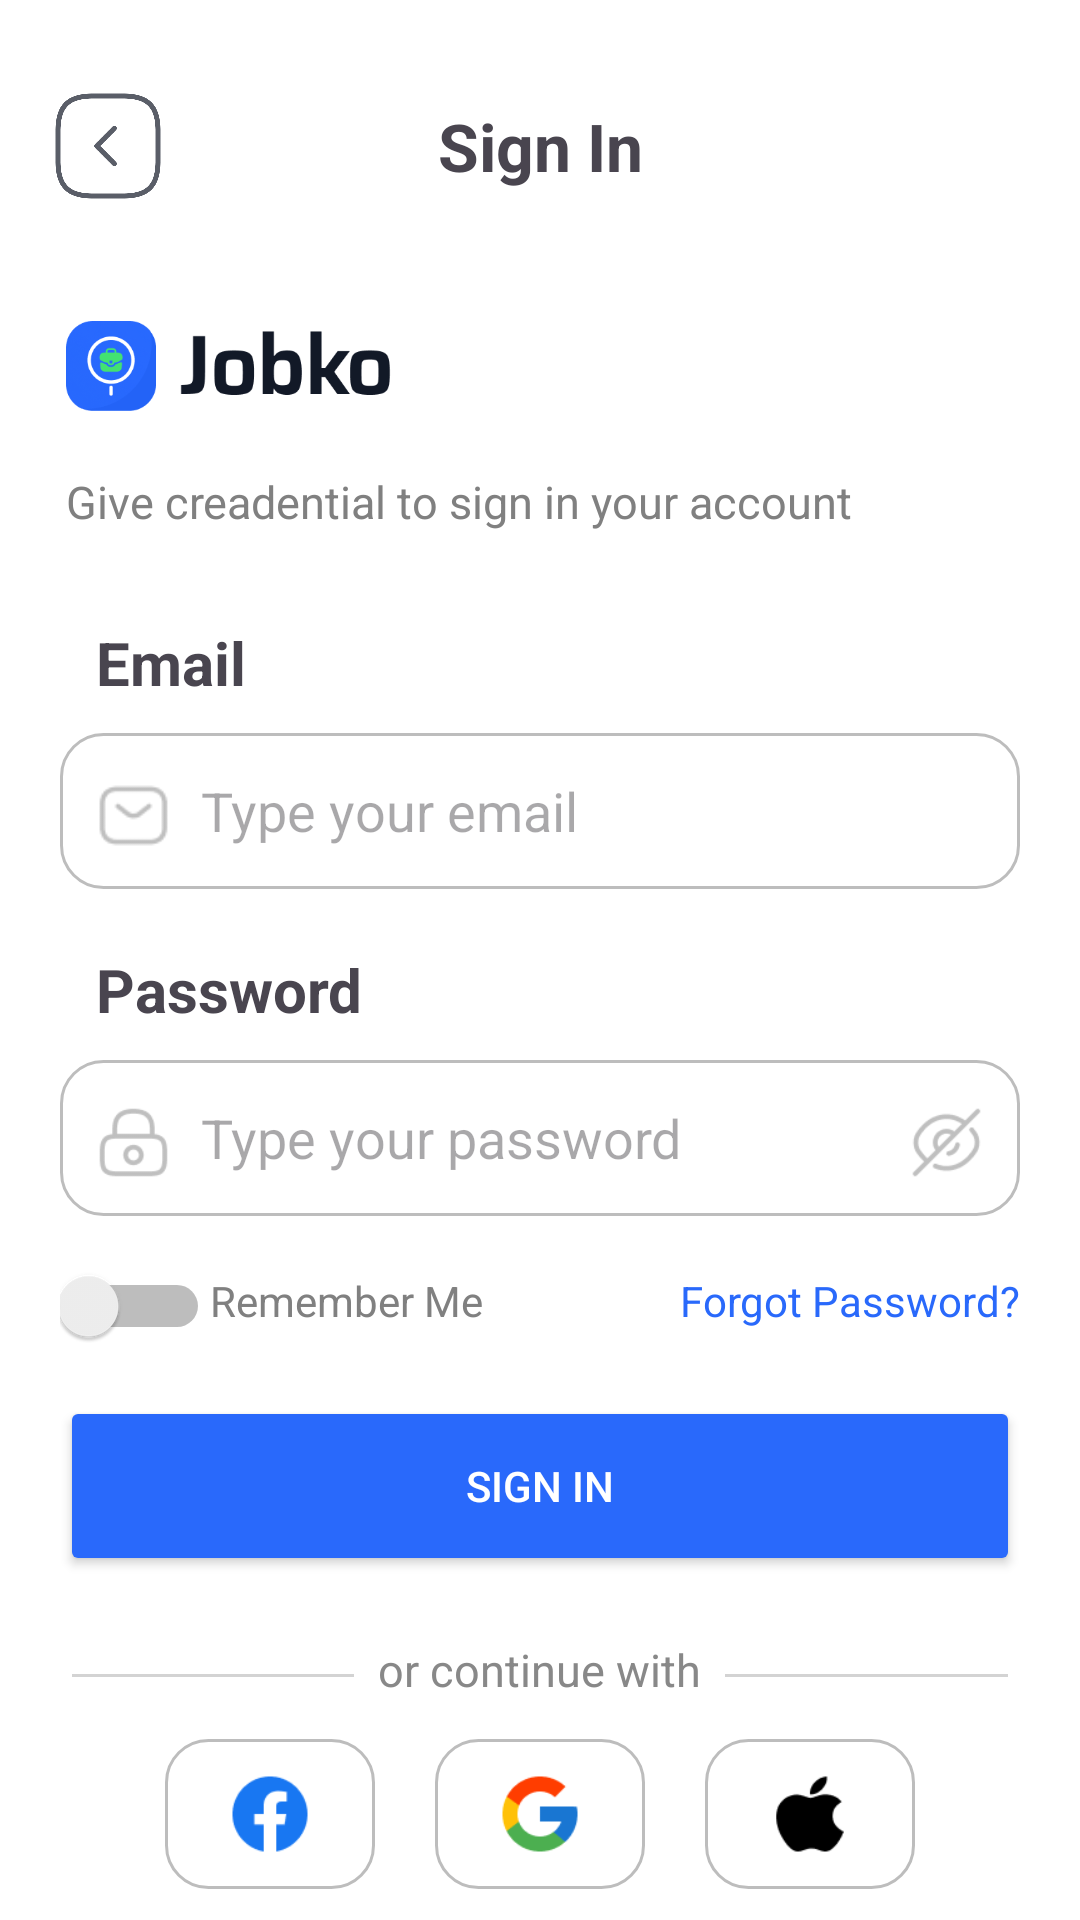

Icon bounding boxes for this 1080×1920 phone screenshot, format (x1=x1, y1=y1, x2=x2, y2=y2):
arrow back: (x1=55, y1=93, x2=161, y2=199)
